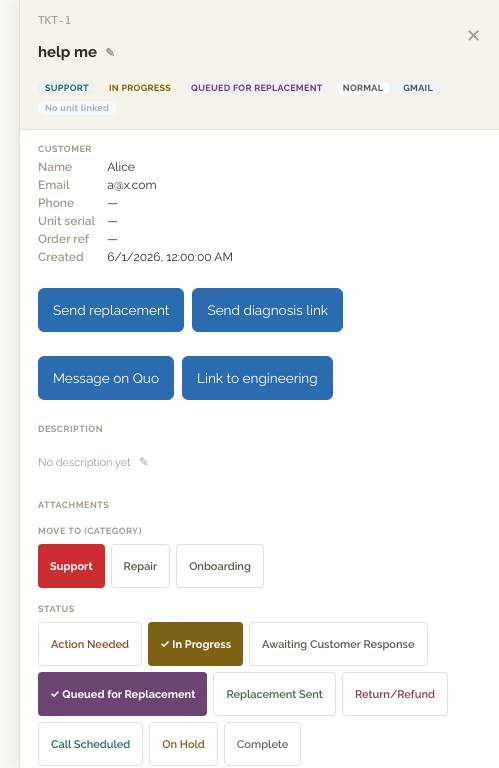
Test: TicketDetailPanel — Status is multi-select › closing a ticket that would strand a ready replacement › asks instead of closing
Click the button "Complete" at (263, 744), box [224,722,301,766]
(page scrolled)
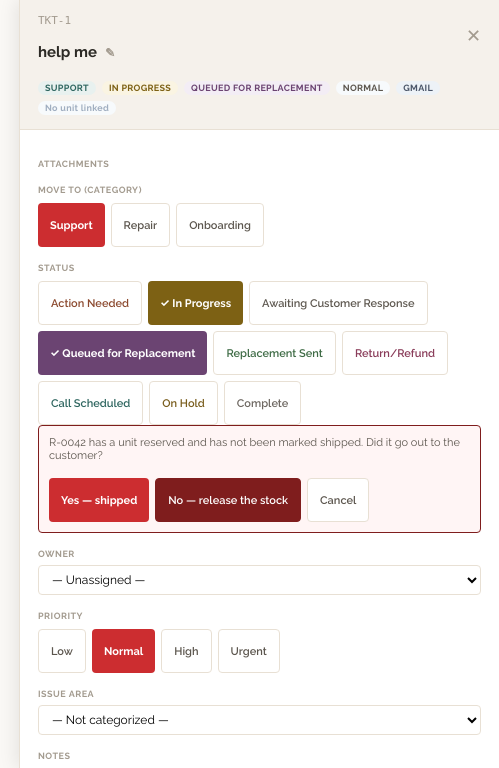
Result: the text "R-0042" is shown at [49,436,363,449]
